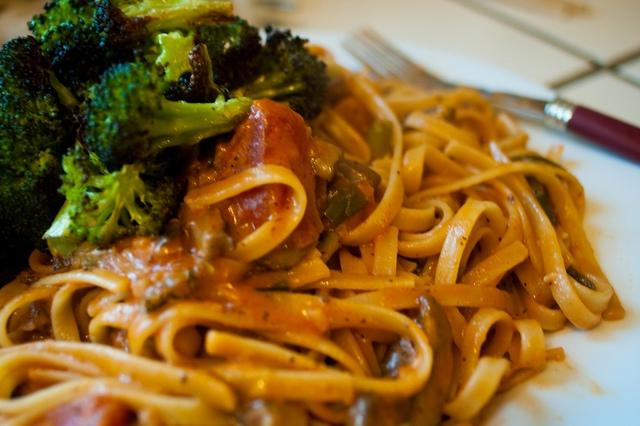broccoli: (28, 0, 233, 100), (1, 35, 80, 290), (84, 62, 254, 174), (59, 143, 188, 248), (231, 48, 331, 120), (324, 150, 382, 230), (141, 30, 196, 86), (42, 198, 86, 257)
mushroom: (349, 292, 454, 426), (323, 158, 381, 229), (144, 269, 192, 313), (232, 399, 310, 425), (526, 176, 557, 227)
